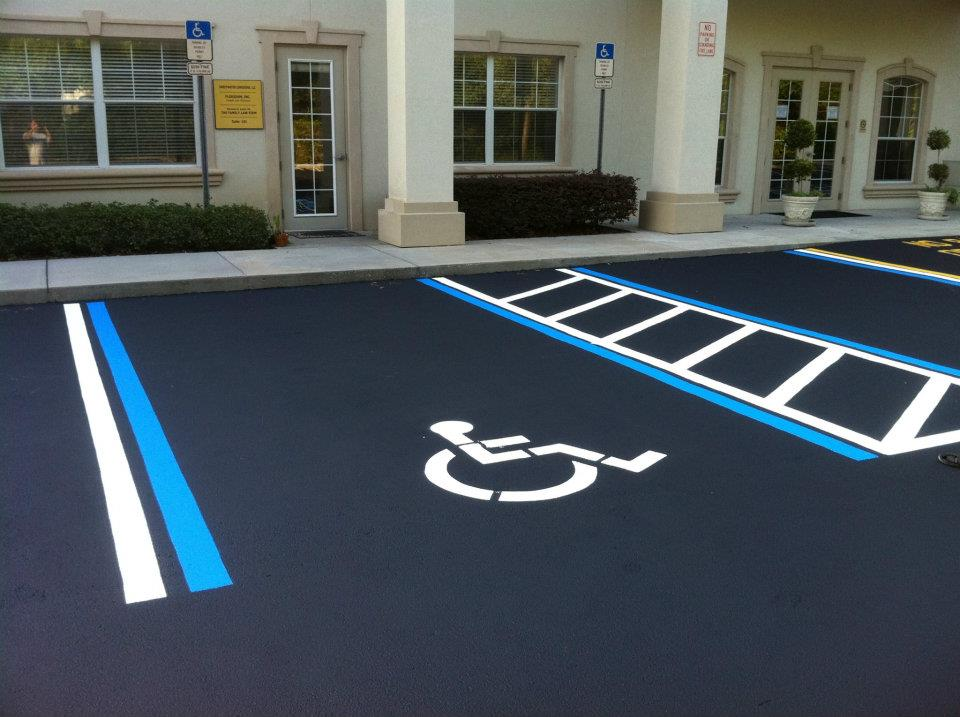empyt_space: (64, 271, 900, 609), (544, 240, 960, 410)
